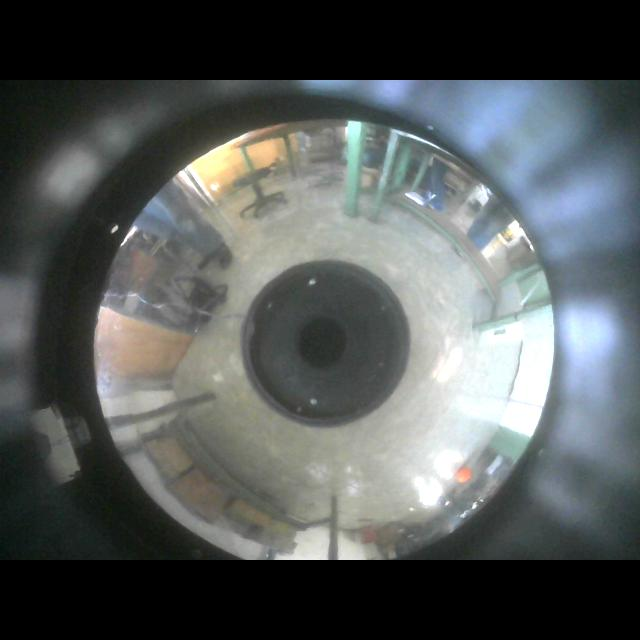bola: (458, 468, 470, 483)
